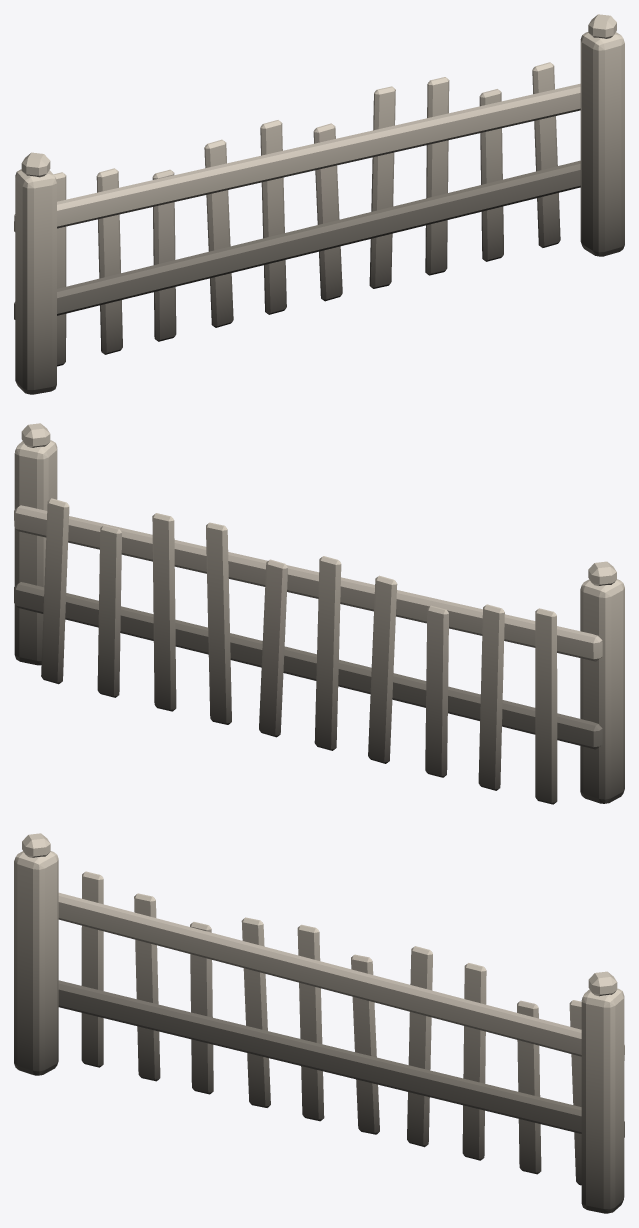
The model's file is SM_VK_Prop_Fence.fbx.
The picture shows the model from 3 angles, top to bottom: view 1: azimuth 30°, elevation 25°; view 2: azimuth 150°, elevation 25°; view 3: azimuth 330°, elevation 25°; orthographic projection.
Parts seen in each view (by area): view 1: SM_VK_Prop_Fence.001; view 2: SM_VK_Prop_Fence.001; view 3: SM_VK_Prop_Fence.001.
Part boxes in pixels (x1,y1,x2,y2): SM_VK_Prop_Fence.001: [14, 14, 624, 394]; SM_VK_Prop_Fence.001: [14, 423, 624, 804]; SM_VK_Prop_Fence.001: [14, 833, 624, 1213].
Size of the model in its own units: 3.18 by 1.18 by 0.2803.
